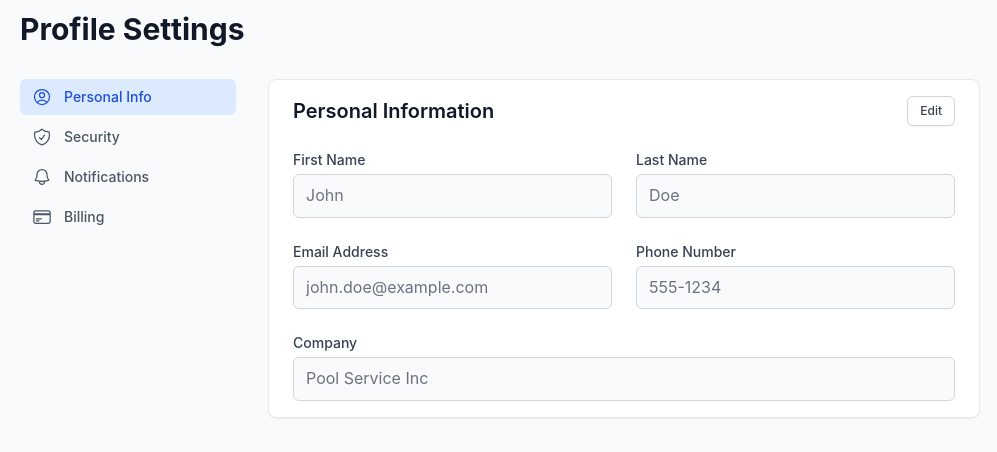
Test: ProfilePage › Tab Navigation › should switch to notifications tab when clicked
Click the button "Notifications".
click(128, 177)  # box [20,159,236,195]
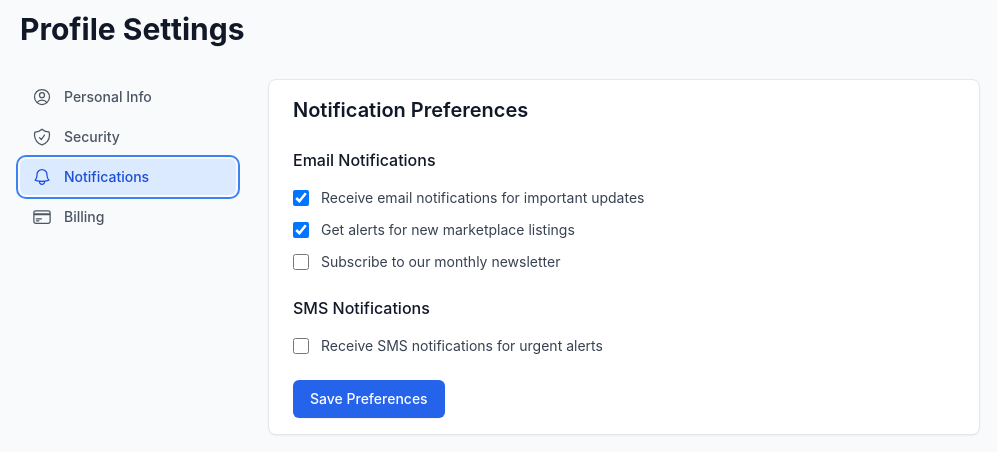
expect the heading "Notification Preferences" is shown: met, box [293,98,528,122]
